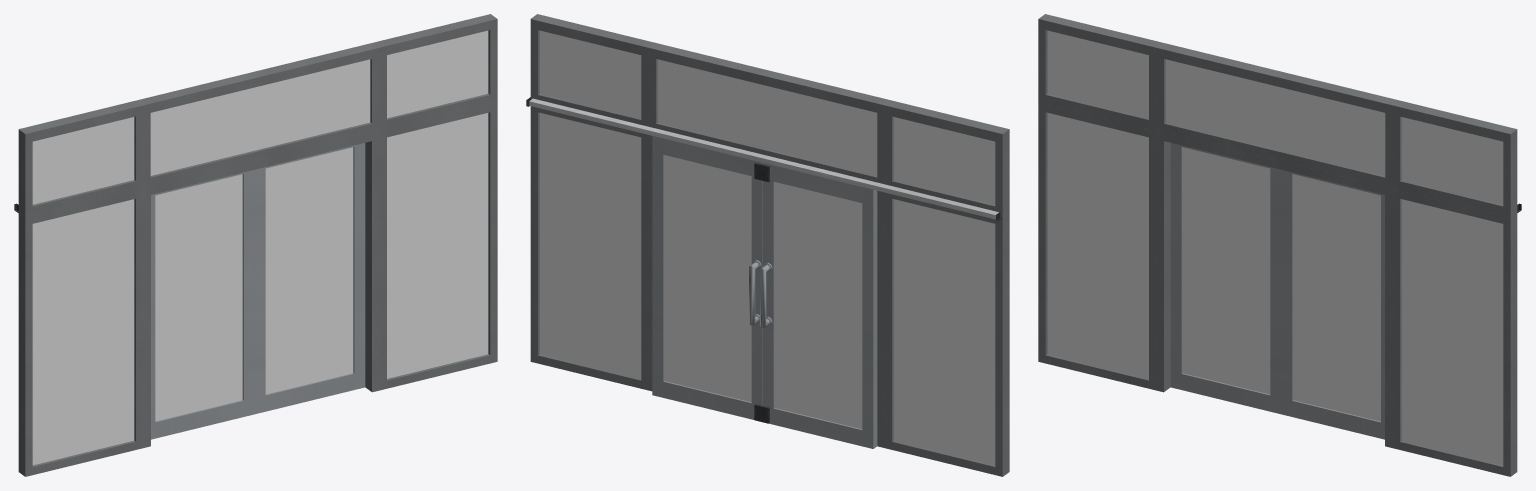
The model's file is horrorlibraryGLASSDOOR.fbx.
3 views of the same model, side by side, from view 1: azimuth 30°, elevation 25°; view 2: azimuth 150°, elevation 25°; view 3: azimuth 330°, elevation 25° (orthographic).
Parts seen in each view (by area): view 1: DoorEntrance.001, DoorEntrance.022, DoorEntrance.021, DoorEntrance.003, DoorEntrance.015, DoorEntrance.002, DoorEntrance.016, DoorEntrance_1; view 2: DoorEntrance.001, DoorEntrance.022, DoorEntrance.003, DoorEntrance.021, DoorEntrance.015, DoorEntrance.002, DoorEntrance.016, DoorEntrance.019, DoorEntrance_1; view 3: DoorEntrance.022, DoorEntrance.001, DoorEntrance.003, DoorEntrance.021, DoorEntrance.015, DoorEntrance.016, DoorEntrance.002, DoorEntrance_1.
Part boxes in pixels (<box>): DoorEntrance.001: <box>18,189,143,476</box>; DoorEntrance.022: <box>379,102,497,390</box>; DoorEntrance.021: <box>254,143,365,414</box>; DoorEntrance.003: <box>151,170,254,439</box>; DoorEntrance.015: <box>137,43,379,188</box>; DoorEntrance.002: <box>18,100,143,217</box>; DoorEntrance.016: <box>373,14,497,130</box>; DoorEntrance_1: <box>143,131,379,447</box>; DoorEntrance.001: <box>884,192,1009,476</box>; DoorEntrance.022: <box>530,106,648,390</box>; DoorEntrance.003: <box>760,163,877,448</box>; DoorEntrance.021: <box>652,136,762,421</box>; DoorEntrance.015: <box>648,43,890,184</box>; DoorEntrance.002: <box>884,100,1009,217</box>; DoorEntrance.016: <box>530,14,654,126</box>; DoorEntrance.019: <box>526,97,1002,221</box>; DoorEntrance_1: <box>648,135,884,447</box>; DoorEntrance.022: <box>1392,189,1517,476</box>; DoorEntrance.001: <box>1038,102,1156,390</box>; DoorEntrance.003: <box>1170,143,1281,414</box>; DoorEntrance.021: <box>1281,170,1384,439</box>; DoorEntrance.015: <box>1156,43,1398,188</box>; DoorEntrance.016: <box>1392,100,1517,217</box>; DoorEntrance.002: <box>1038,14,1162,130</box>; DoorEntrance_1: <box>1156,131,1392,447</box>.
Size of the model in its own units: 400 by 278 by 24.49.
